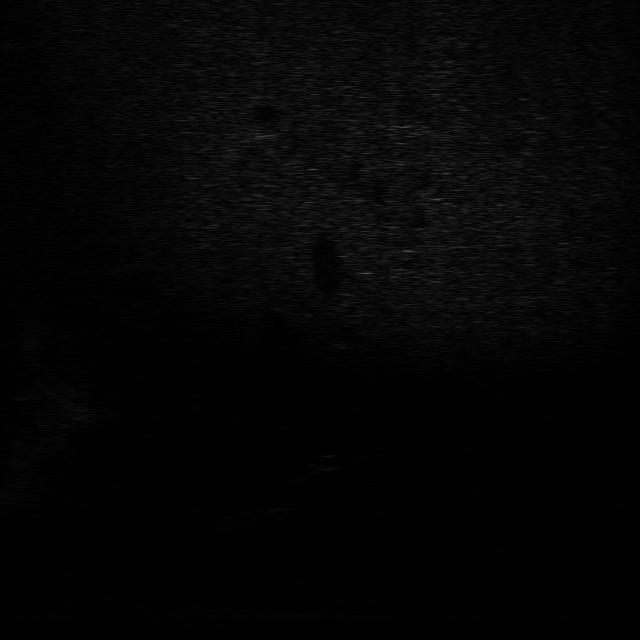ball: (300, 447, 351, 474)
square cage: (232, 489, 306, 519)
